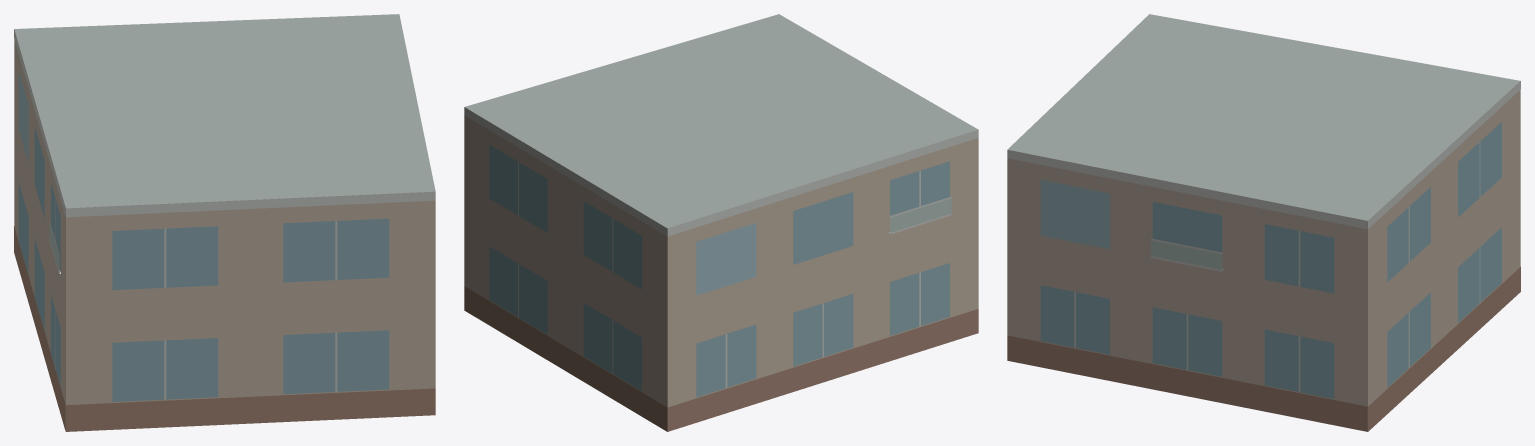
The model's file is survey-upis-32777650.glb.
3 renders of one model, left to right at view 1: azimuth 30°, elevation 25°; view 2: azimuth 150°, elevation 25°; view 3: azimuth 270°, elevation 25°, orthographic. The views are drawn at different scales.
Visible parts, largest first — view 1: survey-upis-32777650.tmp; view 2: survey-upis-32777650.tmp; view 3: survey-upis-32777650.tmp.
Boxes of the visible parts, x1,y1,x2,y2 form: survey-upis-32777650.tmp: (14,14,435,431); survey-upis-32777650.tmp: (464,14,978,431); survey-upis-32777650.tmp: (1007,14,1520,431).
Size of the model in its own units: 12.84 by 6.1 by 13.47.
